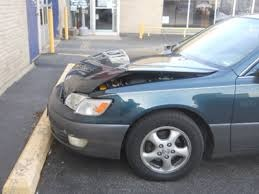Dent: (60, 48, 201, 101)
